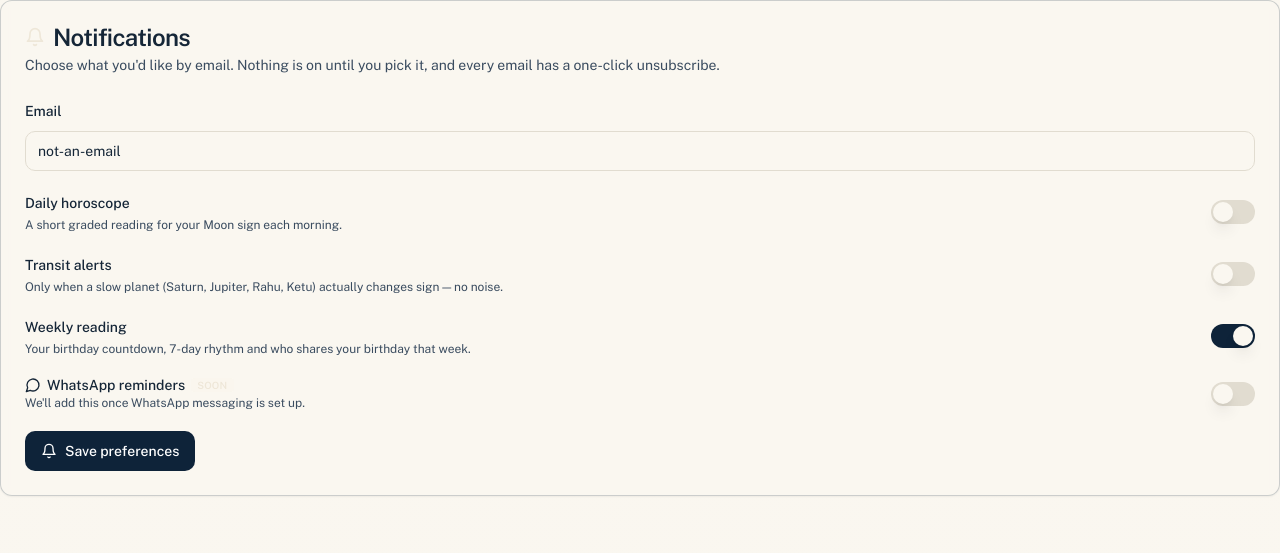
it: NotificationOptIn › rejects an invalid email without calling the API
The image size is (1280, 553).
Click the button "Save preferences" at (110, 451), box [25,431,195,471]
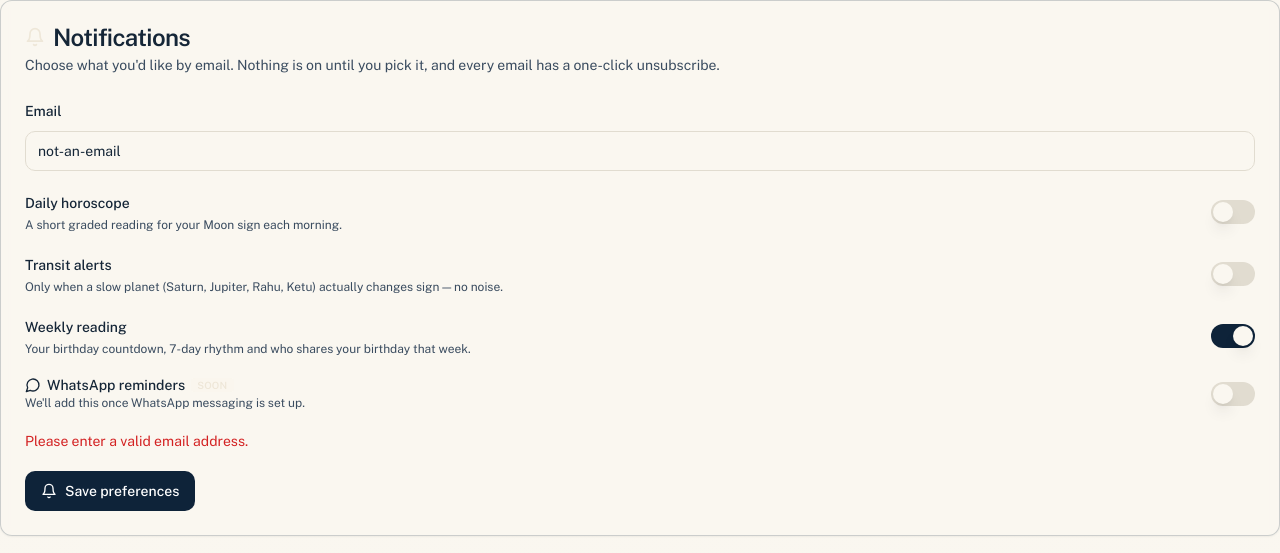
expect the text "Please enter a valid email address." is shown: met, box [25,433,248,449]
